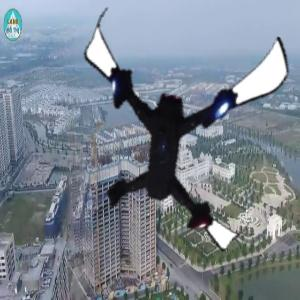drone: (54, 6, 284, 236)
